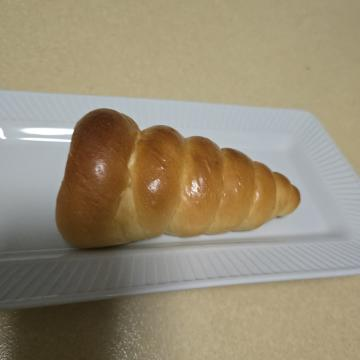cream horn: (99, 44, 277, 318)
